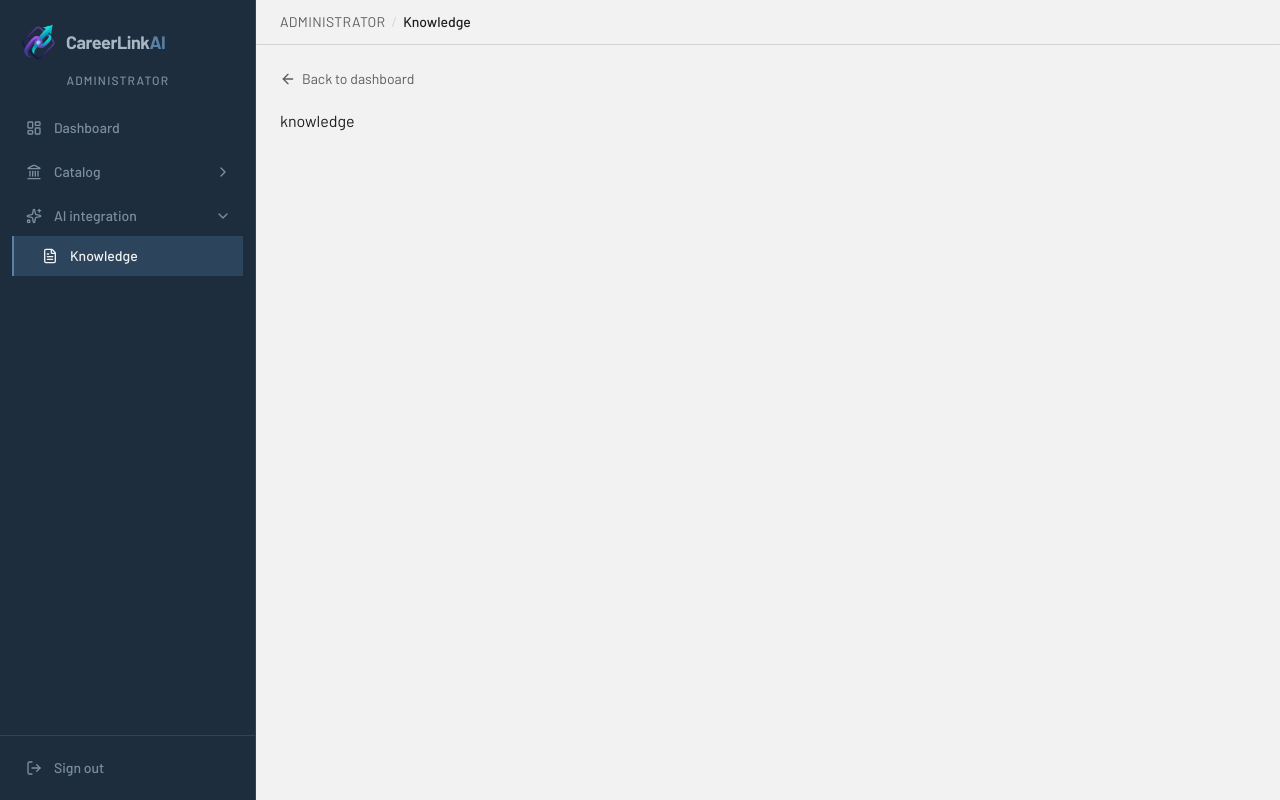
it: AppShell — grouped navigation › opens a group the person asked for even though the route is elsewhere
The image size is (1280, 800).
Click the button "Catalog" at (128, 172), box [12,152,243,192]
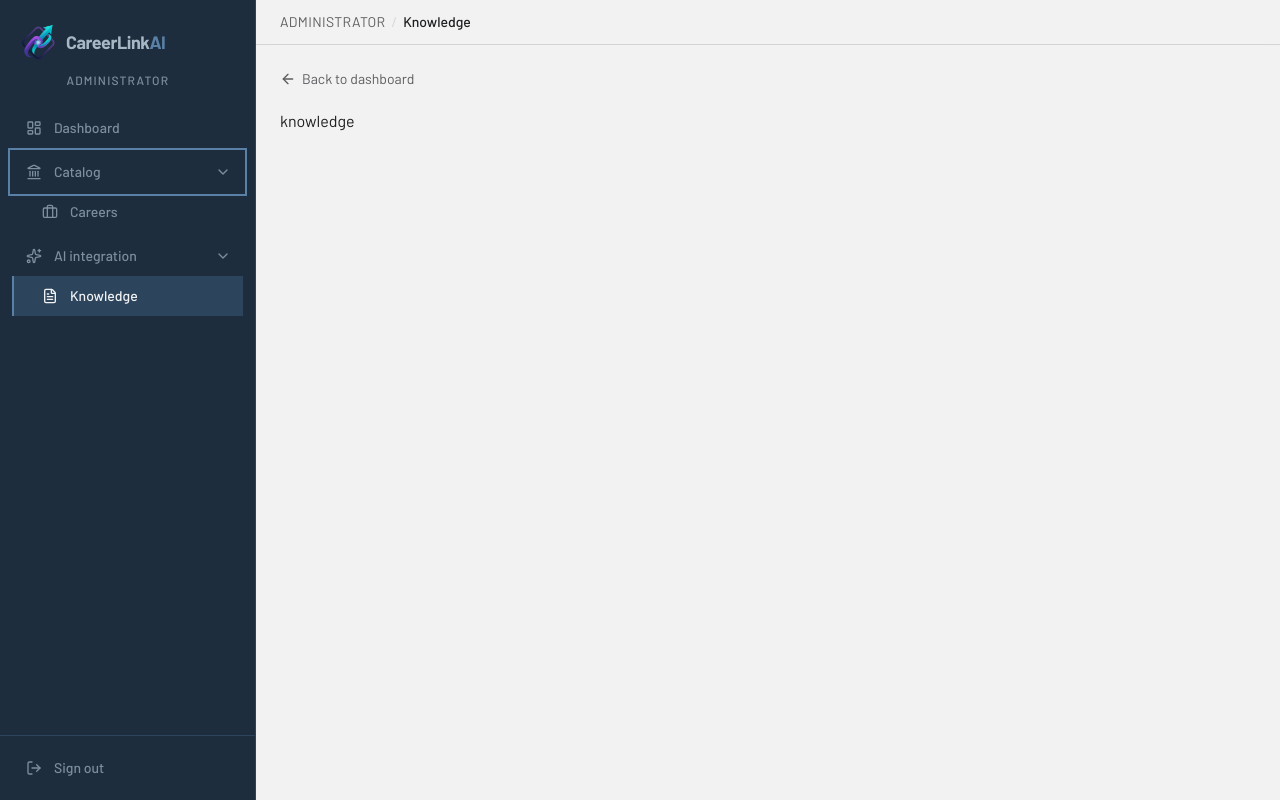
Result: the button "Catalog" is expanded at [12,152,243,192]
